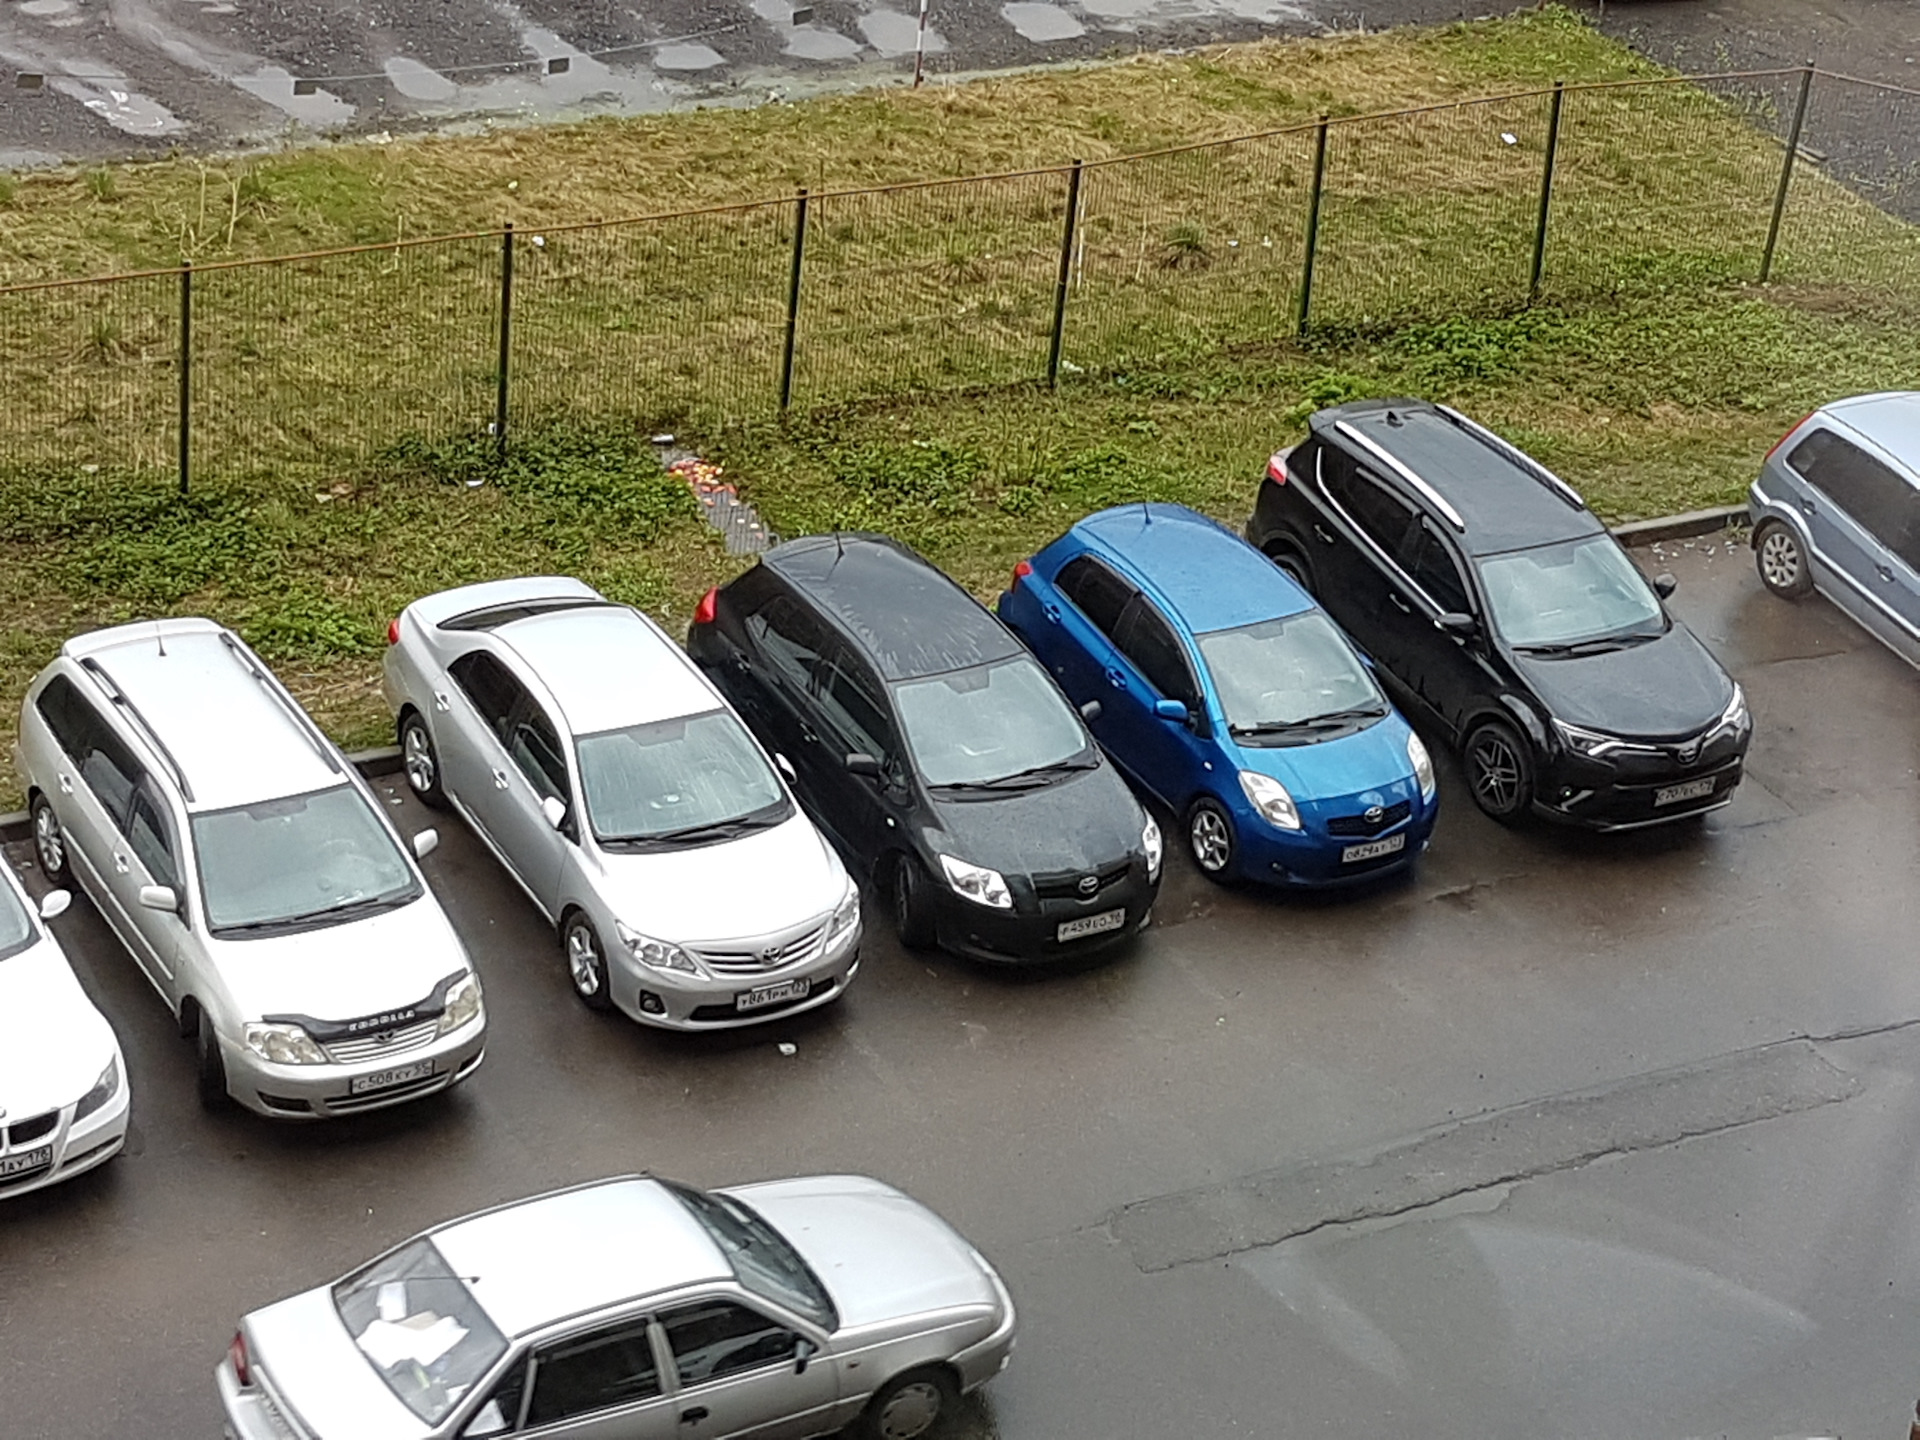Car: (18, 619, 487, 1119), (1247, 399, 1754, 832), (384, 576, 863, 1032), (216, 1175, 1017, 1440), (686, 534, 1166, 965), (998, 504, 1439, 889), (1748, 392, 1920, 670), (0, 853, 132, 1201)
